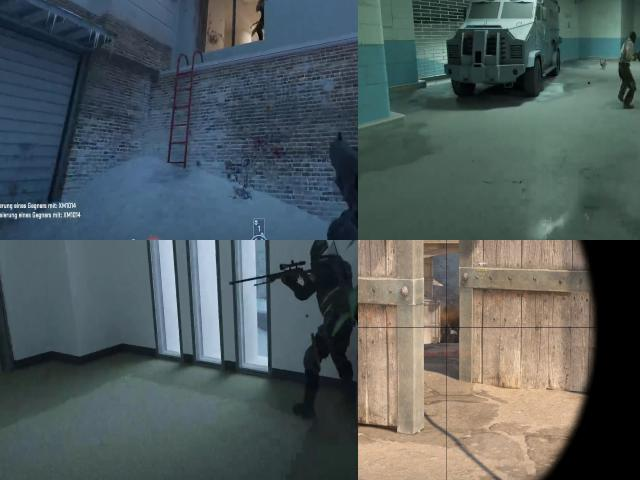CT: (301, 240, 354, 342), (448, 328, 460, 343), (443, 324, 450, 342)
CT-Head: (303, 240, 346, 273), (444, 324, 449, 332), (452, 328, 458, 333)
T: (619, 39, 637, 74), (256, 0, 265, 24)
T-Head: (626, 29, 640, 46)
